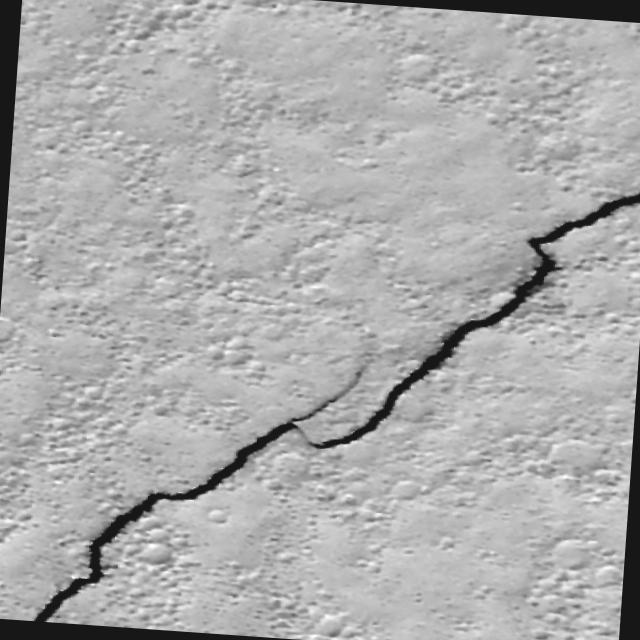crack: (262, 159, 640, 480), (32, 418, 264, 635)
